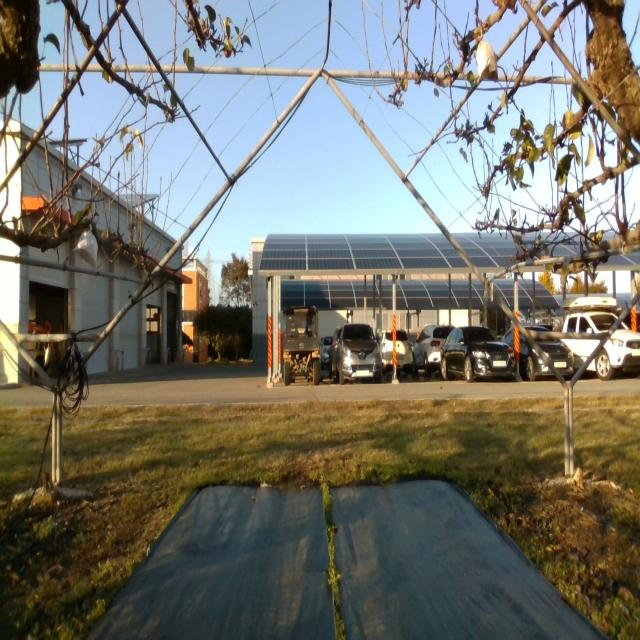pearbags: (73, 224, 99, 274), (476, 28, 498, 82)
